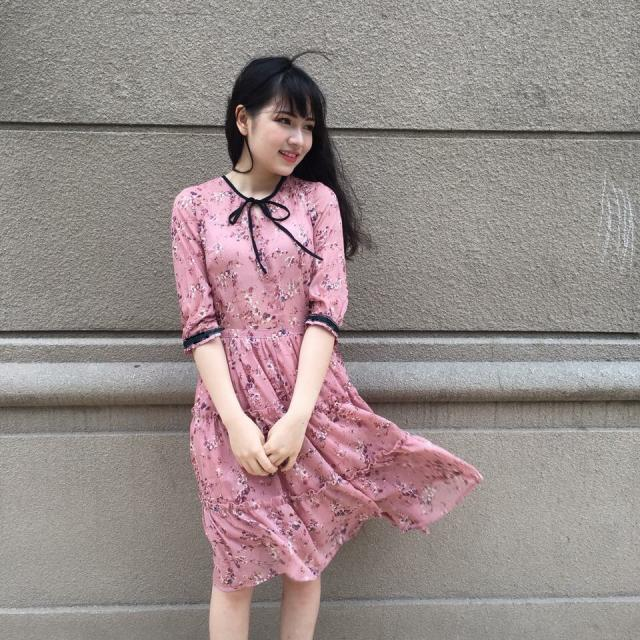clothes: (172, 166, 477, 584)
